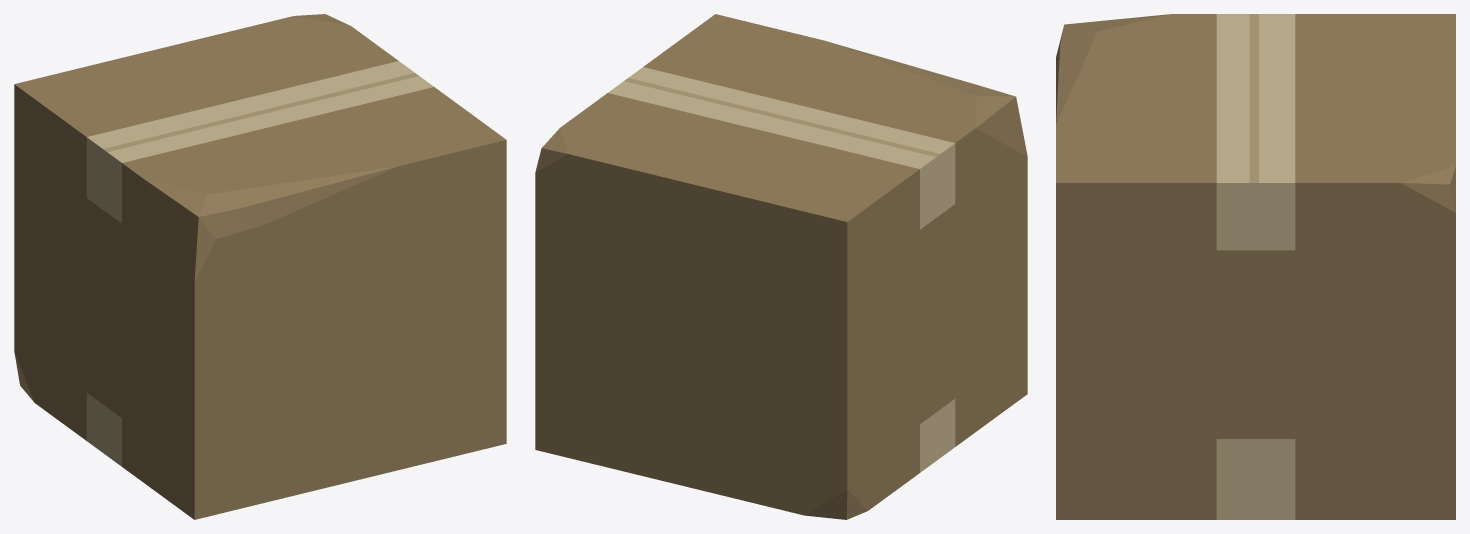
Rendered from SM_Prop_CardboardBox_05.obj.
The picture shows the model from 3 angles, left to right: view 1: azimuth 30°, elevation 25°; view 2: azimuth 150°, elevation 25°; view 3: azimuth 270°, elevation 25°; orthographic projection. The views are drawn at different scales.
Visible parts, largest first — view 1: SM_Prop_CardboardBox_05_0; view 2: SM_Prop_CardboardBox_05_0; view 3: SM_Prop_CardboardBox_05_0.
Part boxes in pixels (x1=…): SM_Prop_CardboardBox_05_0: x1=14, y1=14, x2=506, y2=519; SM_Prop_CardboardBox_05_0: x1=535, y1=14, x2=1027, y2=519; SM_Prop_CardboardBox_05_0: x1=1056, y1=14, x2=1455, y2=519.
Bounding box in the file's own units: 0.5 × 0.4651 × 0.5.
1 material, 1 textured.
